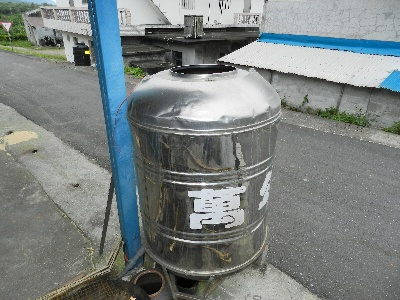water_tower: (126, 61, 283, 297)
